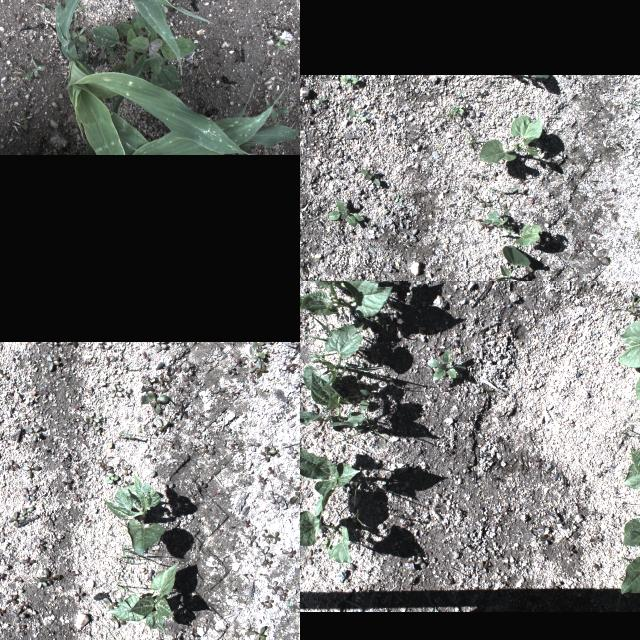crop: (62, 54, 300, 153), (0, 0, 215, 72), (300, 445, 360, 532), (104, 472, 166, 556), (108, 562, 178, 632), (304, 322, 370, 392), (300, 371, 365, 427), (300, 281, 394, 317), (480, 115, 542, 163), (300, 511, 353, 565), (485, 245, 531, 281), (618, 297, 640, 368), (621, 488, 640, 545), (621, 542, 640, 594), (623, 435, 640, 492), (533, 74, 549, 78)
weed: (89, 8, 197, 94), (334, 414, 396, 448), (483, 210, 541, 246), (427, 349, 467, 381), (432, 102, 468, 130), (328, 200, 364, 226), (611, 284, 640, 315), (304, 318, 338, 342), (142, 390, 170, 412), (116, 426, 152, 440), (23, 58, 47, 78), (116, 546, 136, 570), (105, 626, 138, 640), (465, 134, 487, 154), (40, 568, 60, 586), (358, 387, 374, 409), (623, 90, 640, 109), (252, 341, 268, 361), (22, 462, 42, 478), (490, 183, 520, 193), (245, 625, 265, 640), (140, 384, 170, 394), (361, 169, 379, 185), (248, 362, 266, 378), (274, 36, 290, 52), (258, 547, 274, 563), (8, 512, 26, 526), (26, 425, 40, 441), (46, 356, 62, 370), (247, 436, 261, 452), (341, 74, 359, 86), (348, 109, 366, 121), (11, 609, 25, 623), (84, 411, 100, 423), (5, 458, 18, 472), (20, 556, 38, 566), (157, 416, 170, 429), (457, 85, 471, 97), (23, 488, 37, 500), (261, 446, 273, 460), (104, 473, 120, 483), (36, 536, 46, 552), (282, 547, 298, 557), (184, 361, 196, 374), (116, 584, 134, 592), (89, 423, 101, 435), (198, 480, 210, 492), (264, 595, 276, 607), (34, 576, 46, 588), (543, 158, 557, 168), (110, 386, 124, 396), (99, 464, 113, 474), (6, 594, 20, 604), (246, 529, 256, 543), (40, 2, 51, 14), (156, 342, 168, 353), (390, 194, 402, 204), (290, 491, 300, 503), (294, 467, 300, 487), (288, 444, 298, 456), (268, 490, 278, 502), (260, 533, 272, 543), (268, 582, 278, 594), (64, 475, 72, 489), (276, 495, 284, 509), (21, 506, 35, 514), (316, 94, 326, 104), (468, 184, 478, 194), (122, 361, 132, 371), (141, 350, 151, 360), (257, 473, 267, 483), (279, 586, 289, 596), (0, 368, 9, 379), (471, 172, 483, 180), (479, 198, 491, 206), (272, 531, 280, 543), (212, 387, 228, 393), (272, 445, 280, 457), (16, 624, 28, 632), (167, 369, 176, 379), (76, 588, 82, 602), (202, 449, 216, 455), (143, 378, 157, 384), (285, 364, 297, 371), (106, 355, 114, 365), (121, 465, 131, 473), (268, 467, 278, 475), (104, 599, 116, 605), (233, 356, 240, 366), (229, 366, 237, 374), (634, 230, 640, 240), (189, 442, 199, 448), (366, 221, 374, 227), (265, 560, 273, 566), (0, 608, 6, 616), (160, 374, 164, 384), (288, 599, 292, 607), (0, 572, 4, 580)
